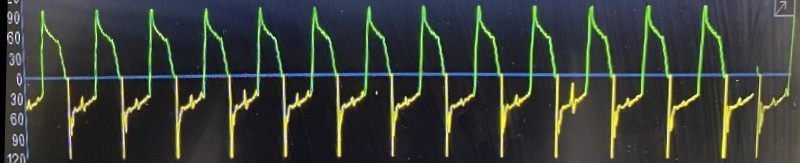hydrop_peepi: (13, 2, 800, 162)
